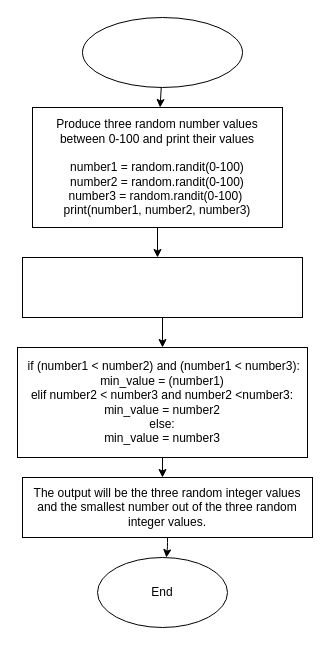
Image size: 330x645. Some labels were removed from this diagram. Each missing label, with the box of its shape:
Begining: (82, 16, 242, 88)
put the number1 value to the variable min_value min_value = number1: (22, 256, 302, 318)
